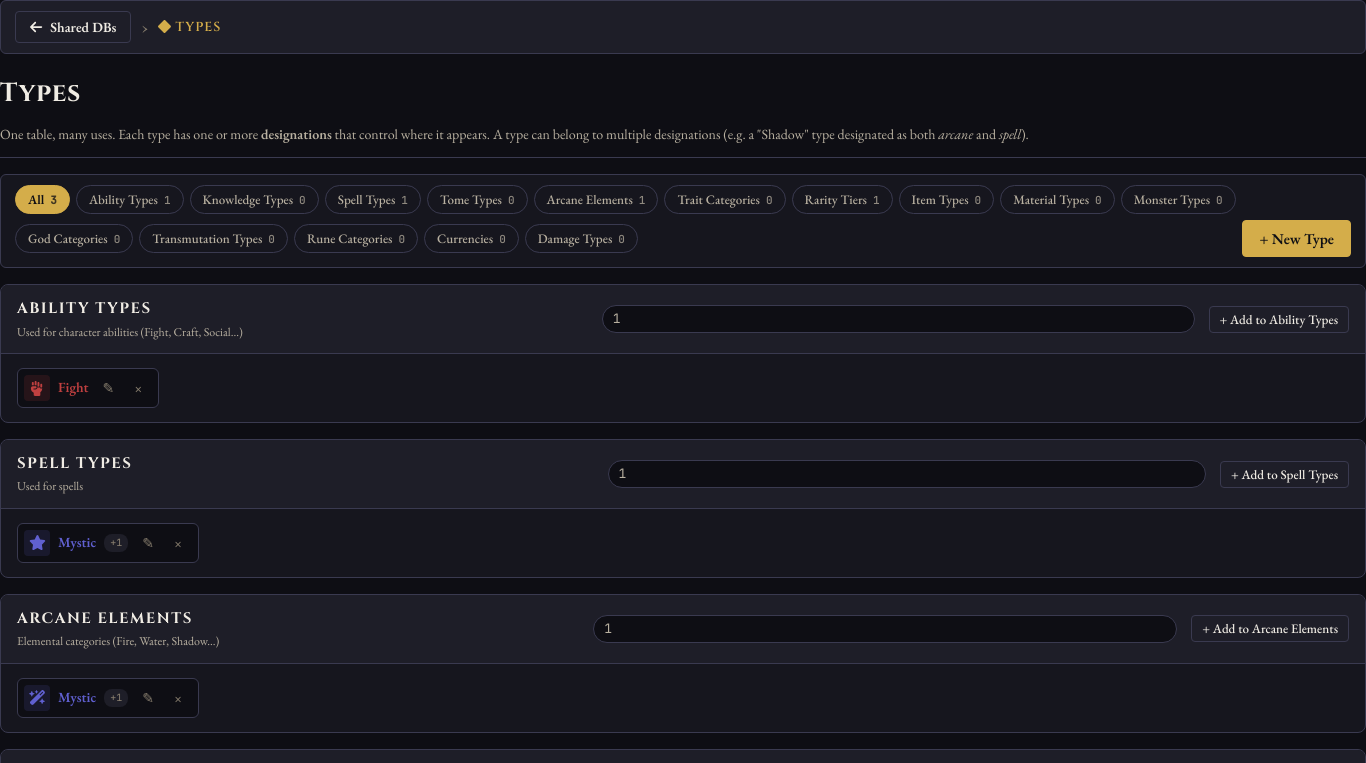
Test: TypesPage › filters when designation pill clicked
expect the text "Fight" is shown: met, box left=58, top=377, right=88, bottom=399
# Find the one that's a button (filter pill)
Click the button "Rarity Tiers 1". click: {"x": 842, "y": 200}
box: left=792, top=185, right=892, bottom=214
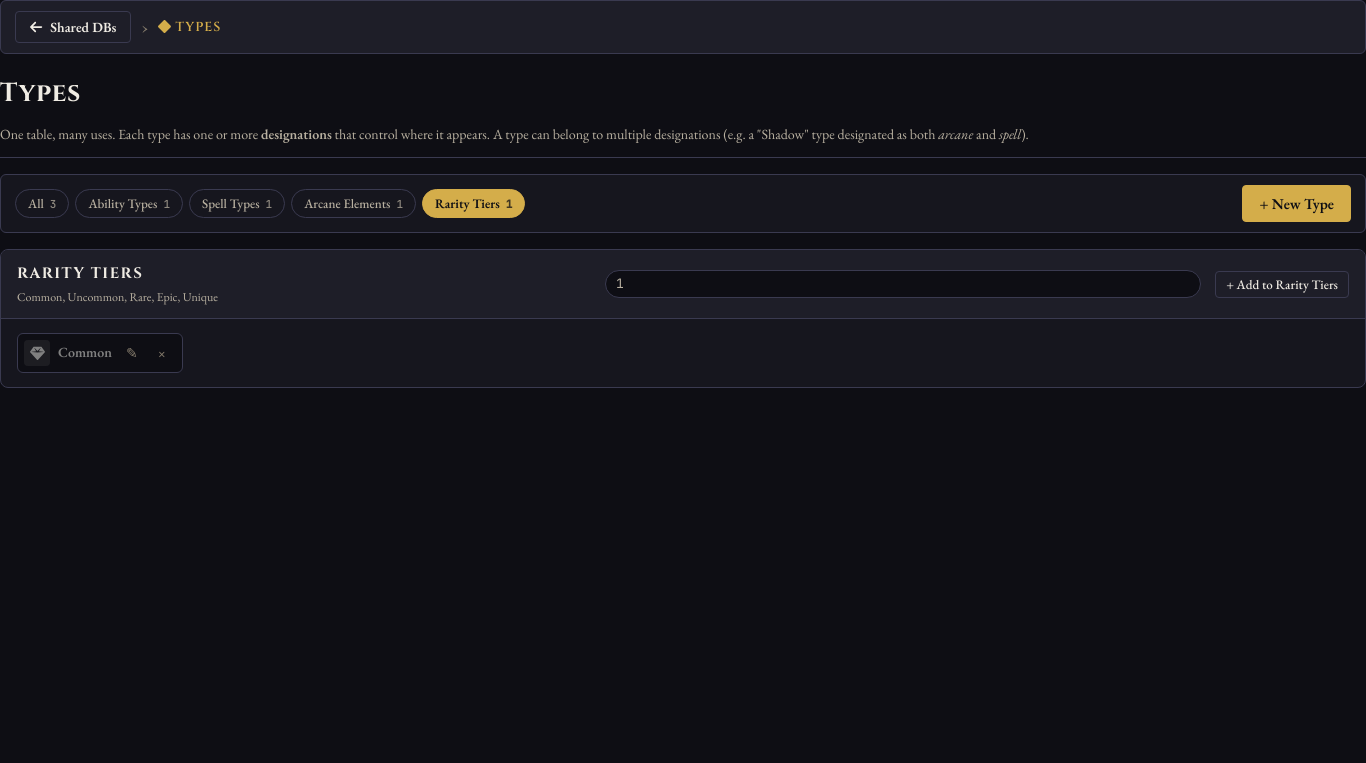
expect the text "Common" is shown: met, box left=58, top=342, right=112, bottom=364
expect the text "Fight" is gone: met
